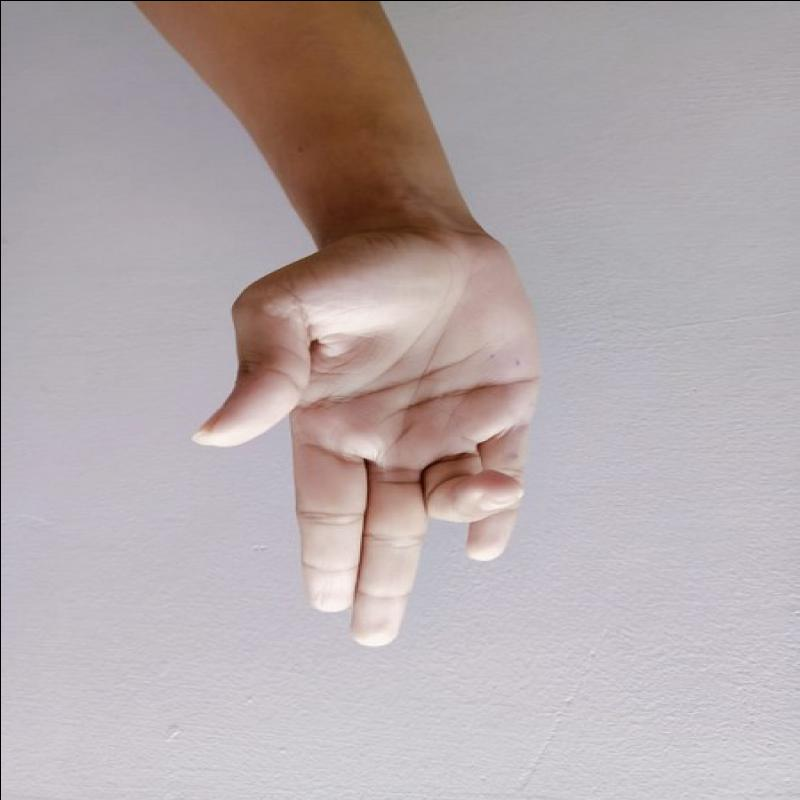Pathaaka: (166, 210, 581, 656)
